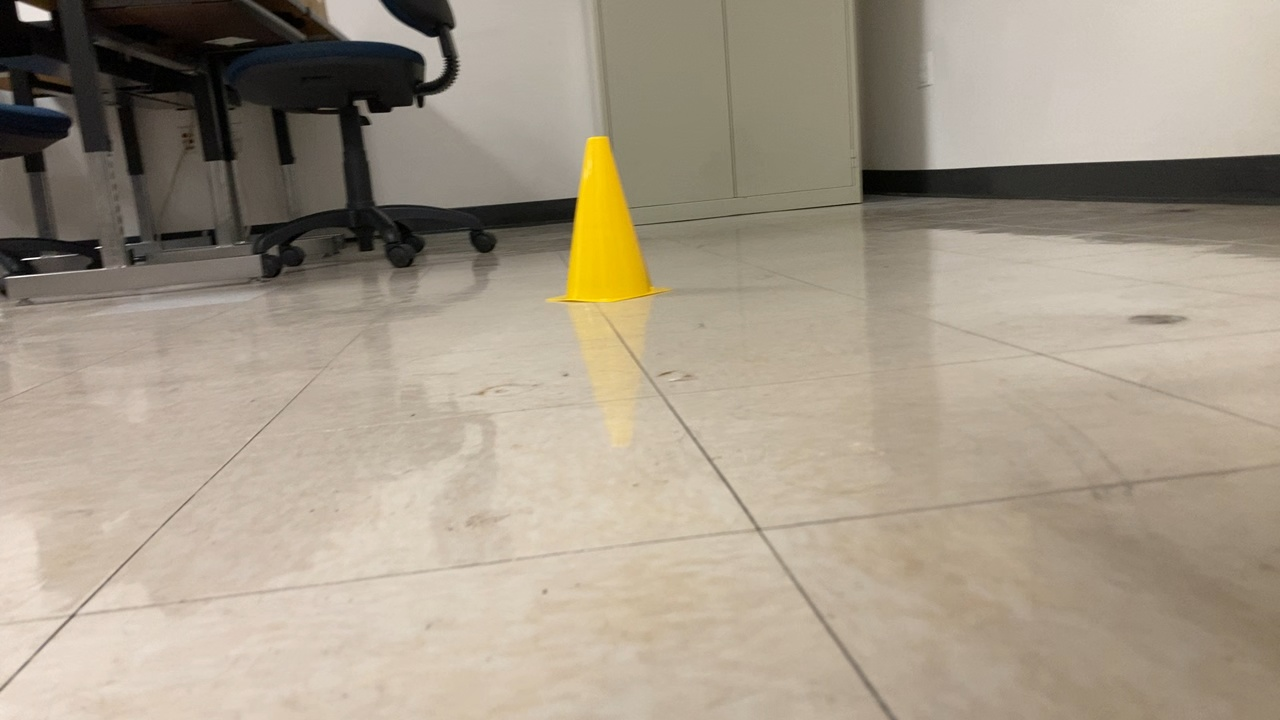yellow_cone: (540, 129, 676, 310)
